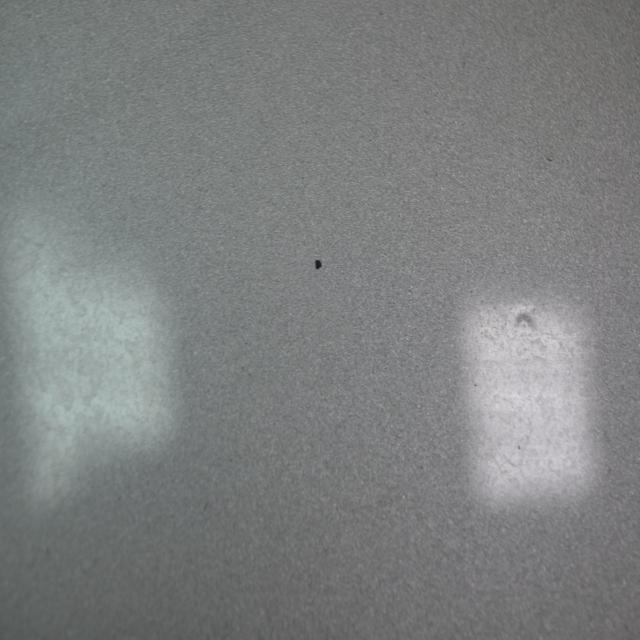dirt: (314, 255, 324, 272)
water marks: (44, 303, 150, 451), (464, 388, 554, 509), (537, 332, 596, 510), (460, 292, 548, 408), (0, 208, 70, 308)
